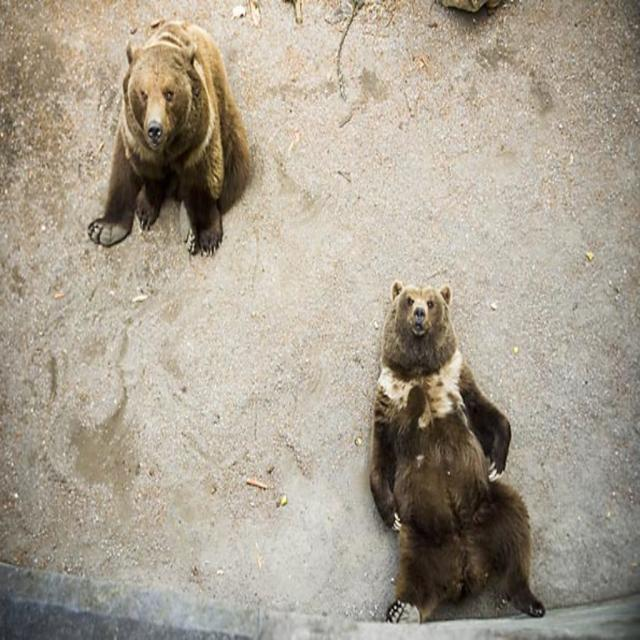Buffalo: (368, 276, 546, 612), (86, 16, 252, 257)
